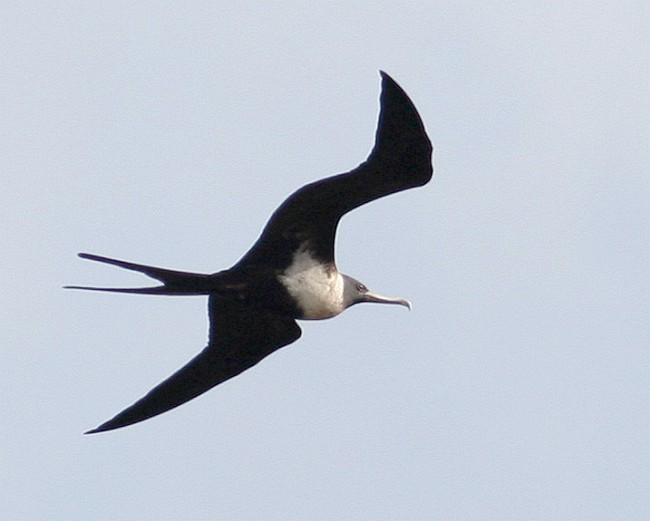bird: (67, 66, 436, 444)
